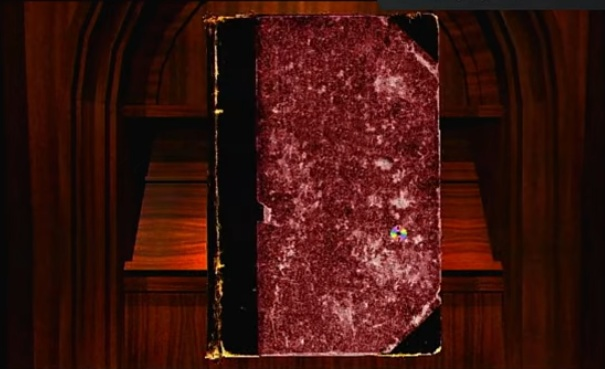Waiting: (387, 222, 411, 243)
